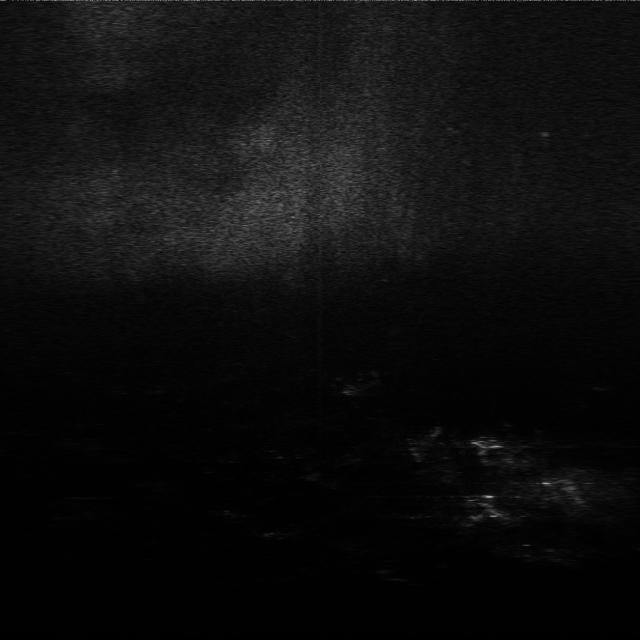rov: (470, 432, 510, 455)
